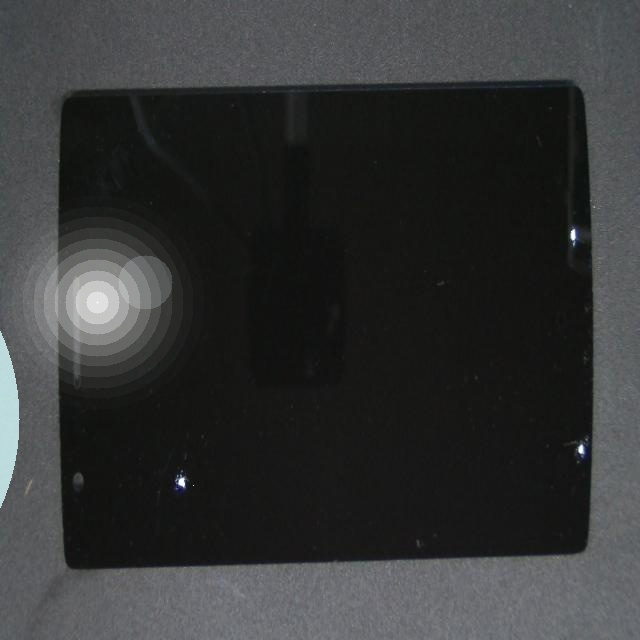stain: (285, 186, 640, 640), (278, 124, 640, 396), (84, 234, 251, 640)
